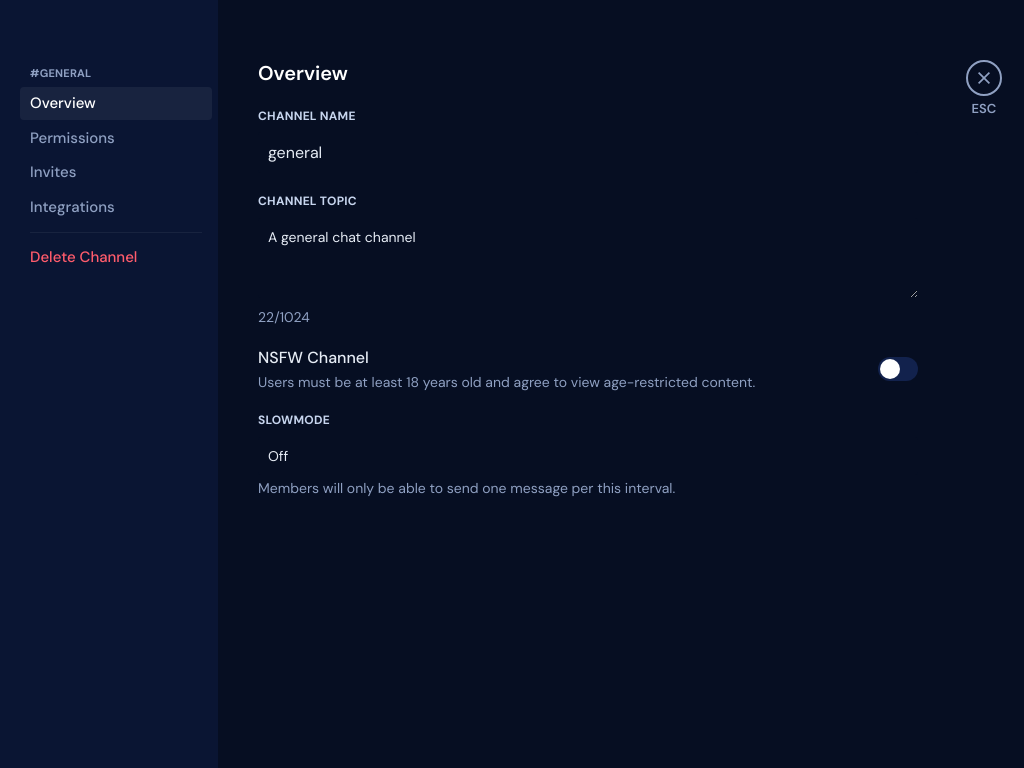
Test case: ChannelSettings › switches to Delete section when clicking Delete Channel nav item
What coordinates should you click on to do the following:
click the button "Delete Channel"
I would click on:
 (116, 257)
Its box is [20,241,212,273].
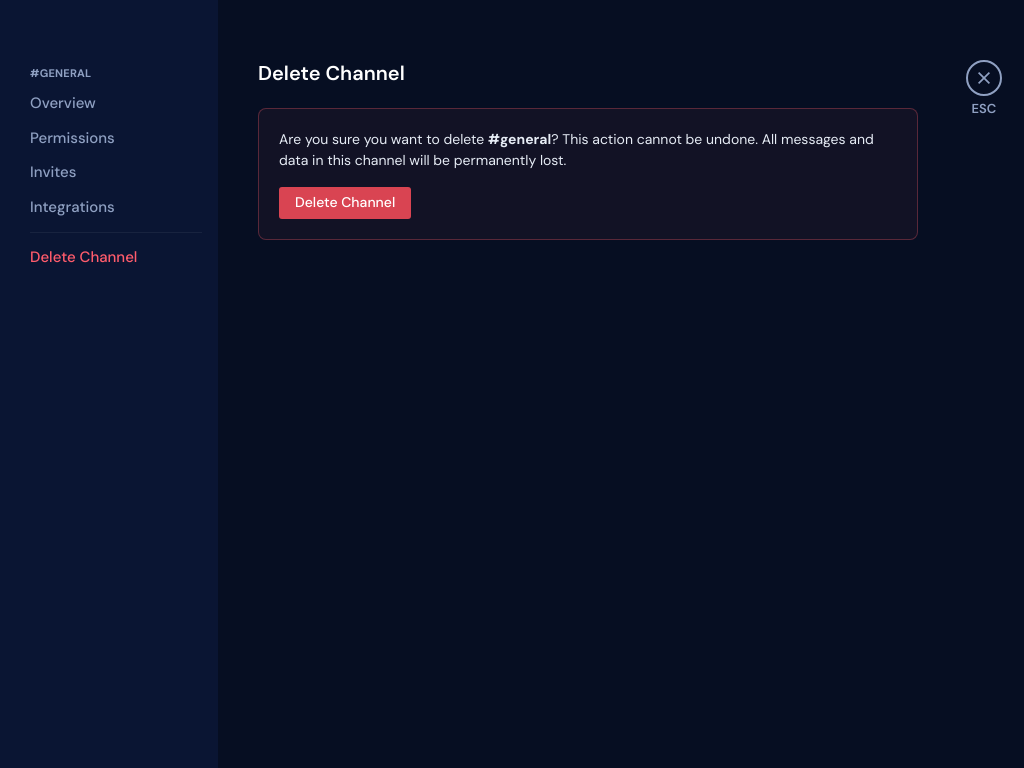
Check: the text "permanently lost" is shown, box [323,150,566,168]
